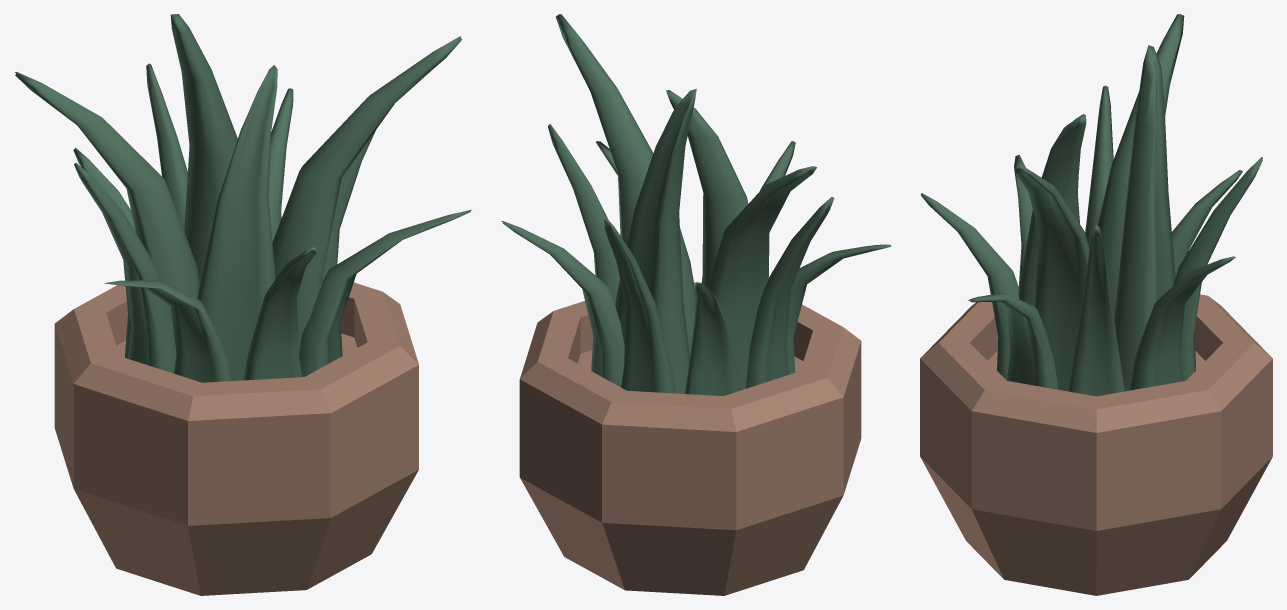
File: pottedPlant.fbx
3 renders of one model, left to right at view 1: azimuth 30°, elevation 25°; view 2: azimuth 150°, elevation 25°; view 3: azimuth 270°, elevation 25°, orthographic. The views are drawn at different scales.
Visible parts, largest first — view 1: Cube.017; view 2: Cube.017; view 3: Cube.017.
Part boxes in pixels (box(x1,y1,x2,y2)): Cube.017: box(15, 14, 471, 595); Cube.017: box(501, 14, 891, 595); Cube.017: box(920, 14, 1272, 595).
Size of the model in its own units: 30.41 by 41.14 by 27.41.
